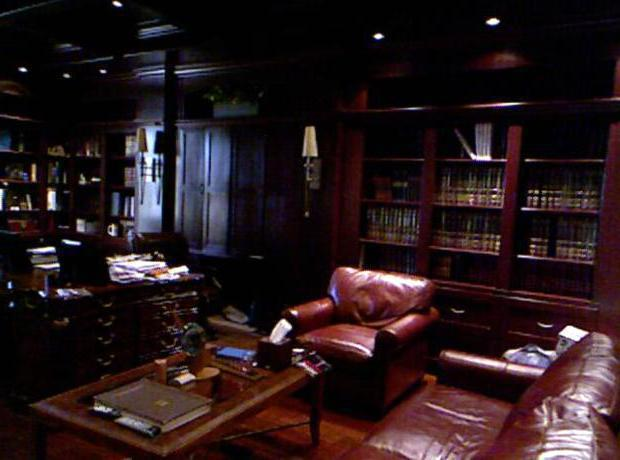Armario: (228, 119, 300, 315), (173, 117, 229, 316)
